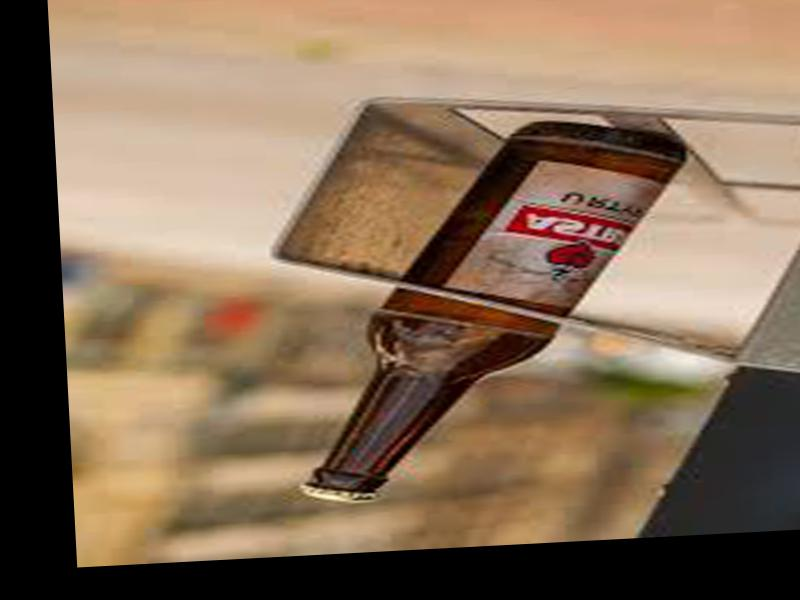Beer: (278, 113, 708, 507)
